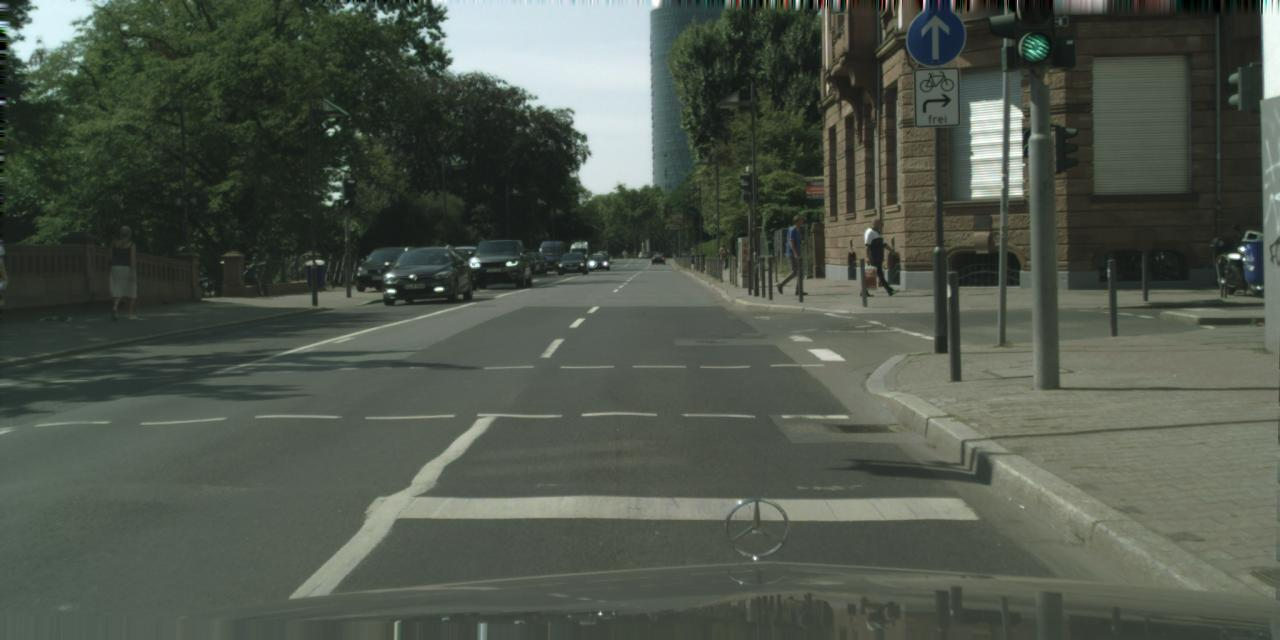ped: (104, 224, 142, 319), (776, 214, 809, 295), (862, 218, 894, 296), (718, 245, 728, 269), (623, 250, 625, 257)
